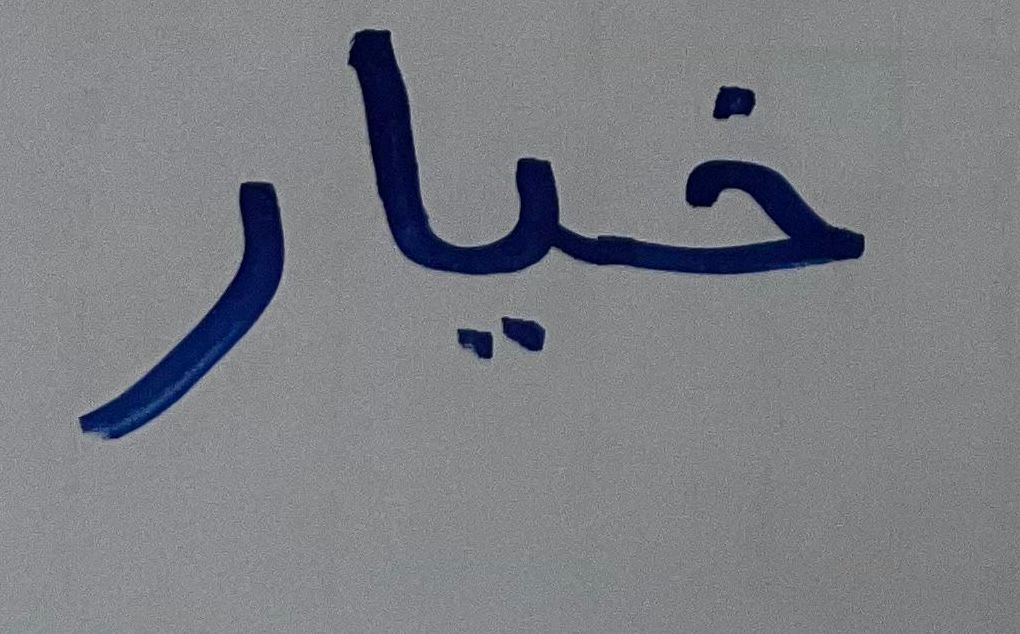alef: (332, 3, 431, 325)
khah: (603, 61, 896, 331)
reh: (58, 108, 320, 476)
yeh: (436, 128, 596, 382)
